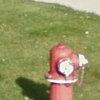Hydrant: (36, 29, 94, 98)
